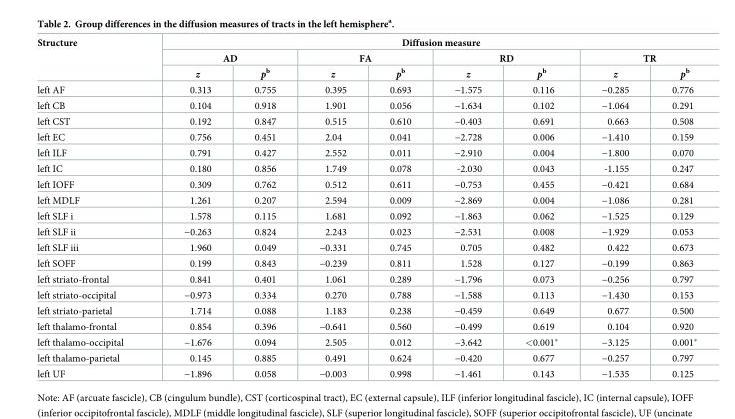table: (36, 37, 696, 379)
table column: (36, 37, 152, 379), (152, 37, 232, 379), (502, 37, 578, 379), (296, 37, 367, 379), (578, 37, 649, 379), (432, 37, 502, 379), (367, 37, 432, 379), (232, 37, 296, 379), (649, 37, 696, 379)
table column header: (36, 37, 696, 81)
table row: (36, 64, 696, 81), (36, 144, 696, 161), (36, 81, 696, 97), (36, 97, 696, 113), (36, 128, 696, 144), (36, 175, 696, 191), (36, 191, 696, 207), (36, 207, 696, 223), (36, 223, 696, 239), (36, 239, 696, 255), (36, 270, 696, 286), (36, 286, 696, 302), (36, 302, 696, 318), (36, 318, 696, 334), (36, 349, 696, 365), (36, 113, 696, 128), (36, 255, 696, 270), (36, 334, 696, 349), (36, 50, 696, 64), (36, 161, 696, 175), (36, 365, 696, 379), (36, 37, 696, 50)
table spanning cell: (152, 37, 696, 50), (36, 37, 152, 81), (432, 50, 578, 64), (152, 50, 296, 64), (296, 50, 432, 64), (578, 50, 696, 64)
